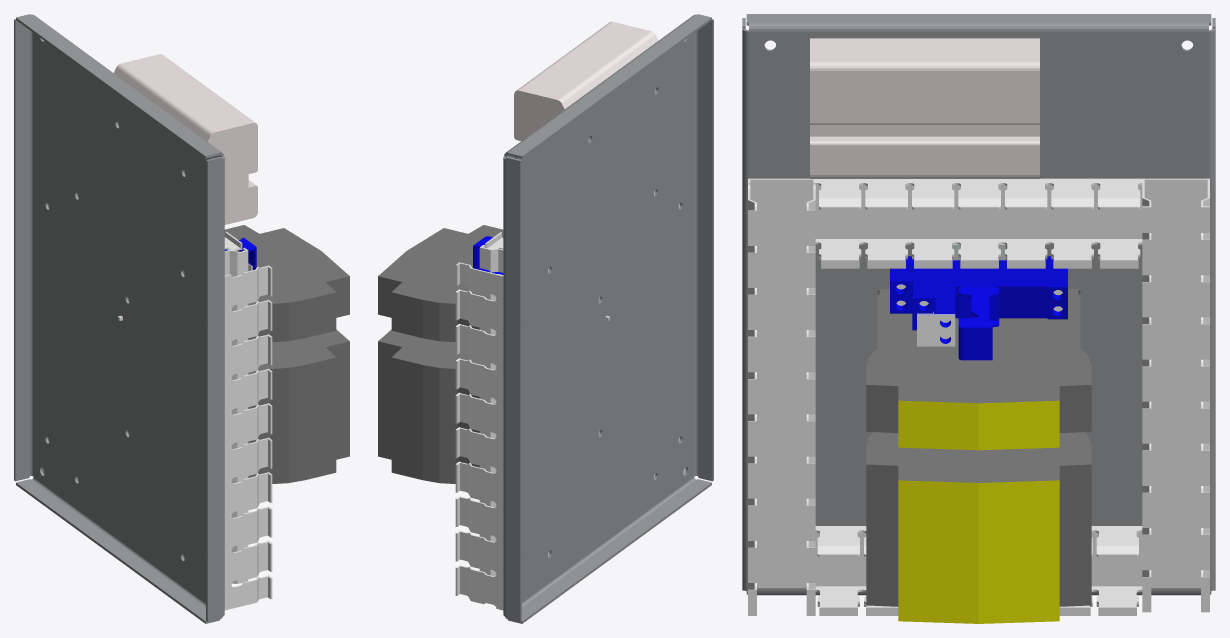
The model's file is modelo.glb.
The picture shows the model from 3 angles, left to right: view 1: azimuth 30°, elevation 25°; view 2: azimuth 150°, elevation 25°; view 3: azimuth 270°, elevation 25°; orthographic projection. The views are drawn at different scales.
Visible parts, largest first — view 1: CM QUADRO ELETRICO NR12; view 2: CM QUADRO ELETRICO NR12; view 3: CM QUADRO ELETRICO NR12.
Part boxes in pixels (x1,y1,x2,y2): CM QUADRO ELETRICO NR12: (14,14,349,623); CM QUADRO ELETRICO NR12: (378,14,713,623); CM QUADRO ELETRICO NR12: (742,14,1215,623).
Bounding box in the file's own units: 132 × 280 × 210.
